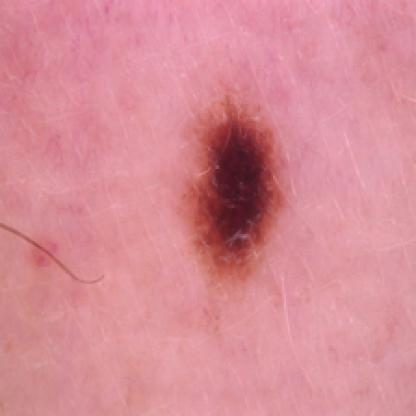benign: (184, 100, 286, 270)
